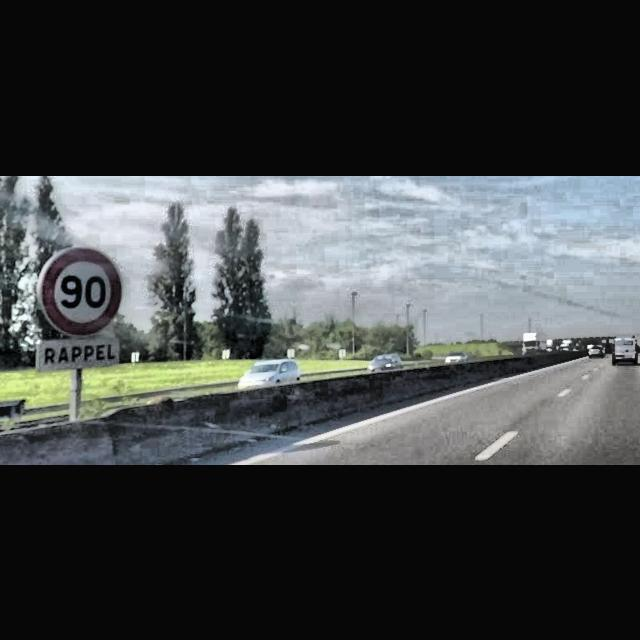speed_90: (40, 245, 121, 335)
